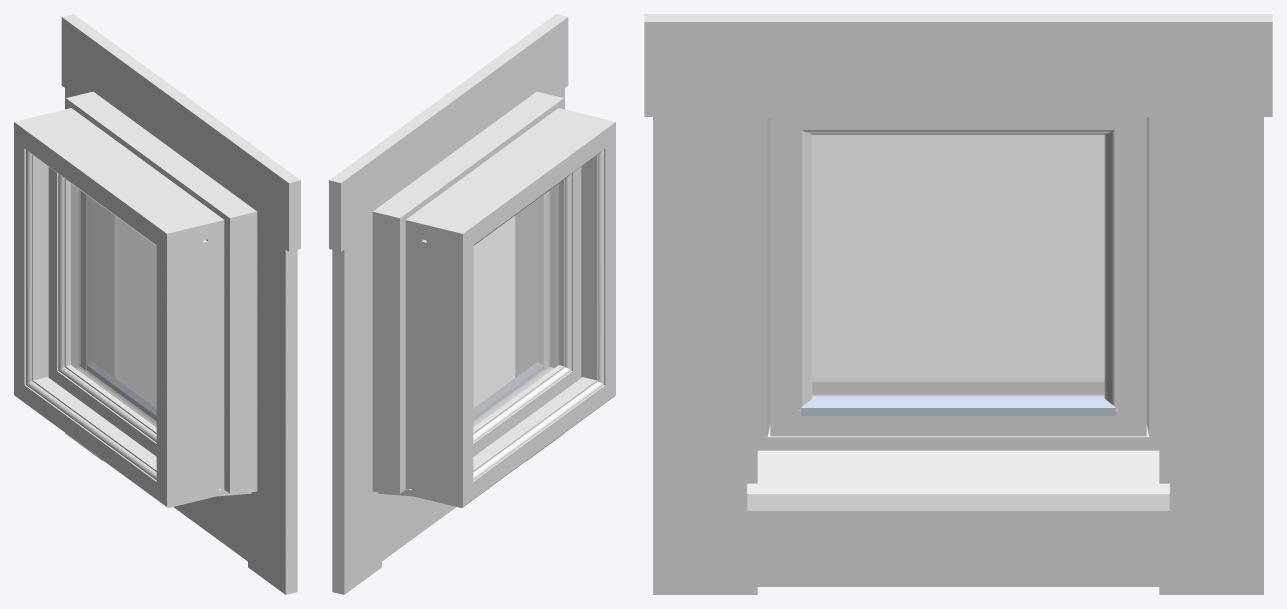
3 renders of one model, left to right at view 1: azimuth 30°, elevation 25°; view 2: azimuth 150°, elevation 25°; view 3: azimuth 270°, elevation 25°, orthographic. The views are drawn at different scales.
Visible parts, largest first — view 1: Dropplist fönster_WEB-1 - Part; view 2: Dropplist fönster_WEB-1 - Part; view 3: Dropplist fönster_WEB-1 - Part.
Part boxes in pixels (box(x1,y1,x2,y2)): Dropplist fönster_WEB-1 - Part: box(14, 14, 300, 594); Dropplist fönster_WEB-1 - Part: box(329, 14, 615, 594); Dropplist fönster_WEB-1 - Part: box(644, 14, 1272, 594).
Bounding box in the file's own units: 0.1871 × 0.724 × 0.72.
Materials: 19 (15 with a texture image).
